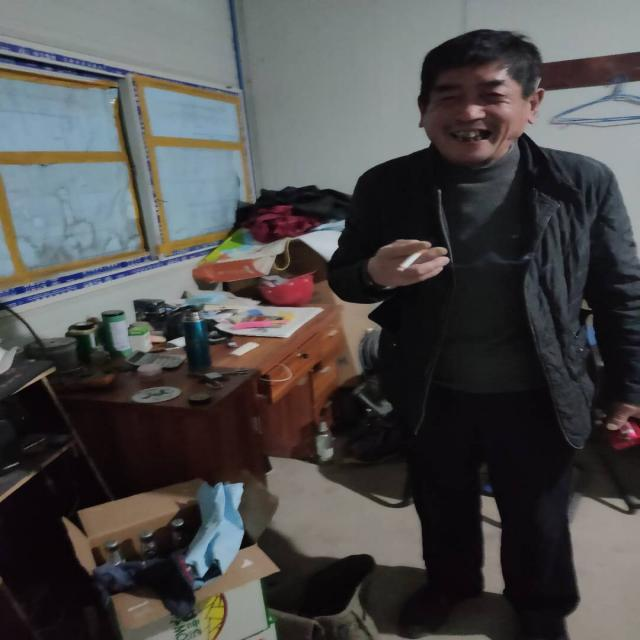cigarette: (398, 249, 418, 276)
